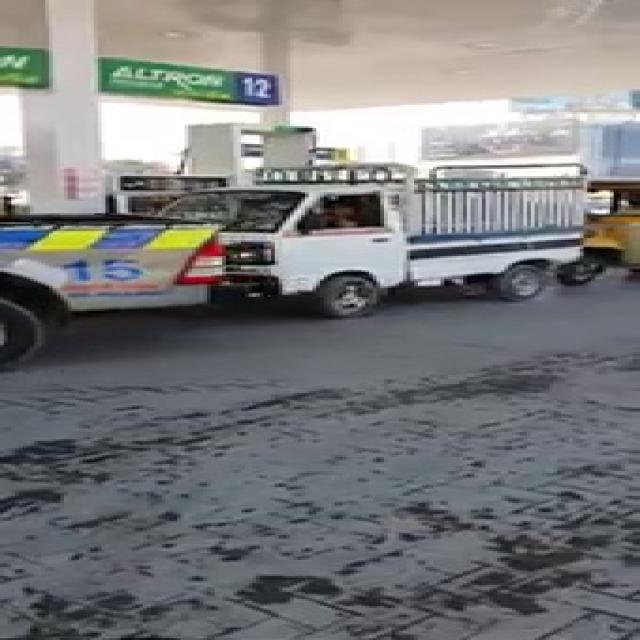police: (0, 157, 249, 385)
